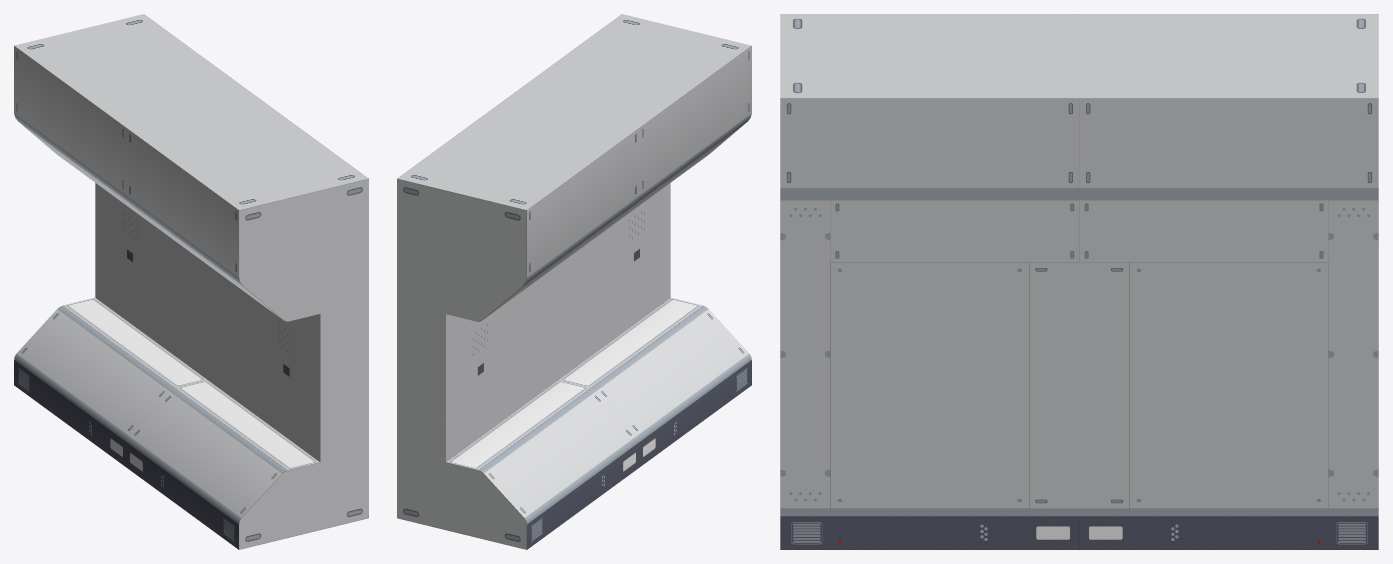
File: Wall_Normal_Simple_02_B.FBX
3 views of the same model, side by side, from view 1: azimuth 30°, elevation 25°; view 2: azimuth 150°, elevation 25°; view 3: azimuth 270°, elevation 25° (orthographic). The views are drawn at different scales.
Visible parts, largest first — view 1: Wall_Normal_Simple_02_B; view 2: Wall_Normal_Simple_02_B; view 3: Wall_Normal_Simple_02_B.
Part boxes in pixels (left/top/right/bottom): Wall_Normal_Simple_02_B: left=14, top=14, right=368, bottom=549; Wall_Normal_Simple_02_B: left=397, top=14, right=751, bottom=549; Wall_Normal_Simple_02_B: left=780, top=14, right=1378, bottom=549.
Size of the model in its own units: 2 by 5 by 6.
